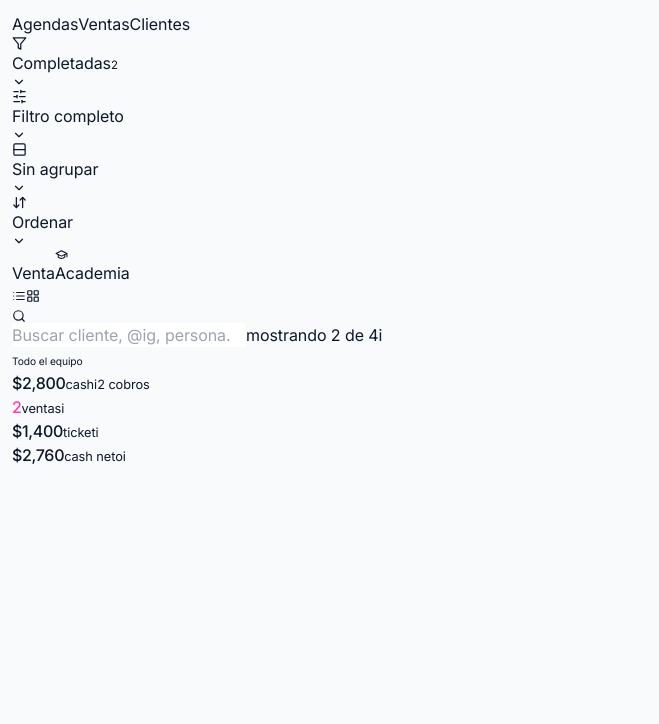
Test: Revisar › Ventas · los números de quien opera son los de la dirección › los atajos de siempre tampoco cuentan las no completadas
Click the button "Completadas2" at [65, 62], box x1=12 y1=36 x2=118 y2=89
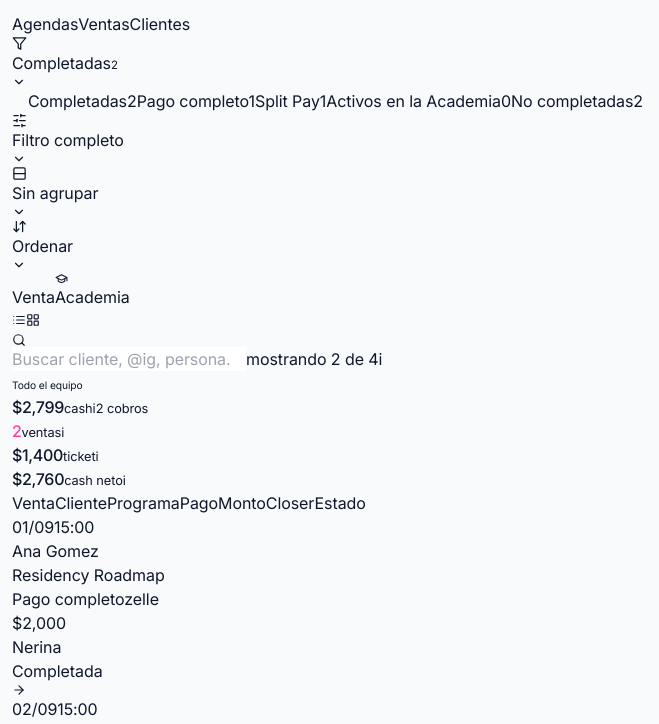
Now the menu item "Pago completo1" is shown, box x1=137 y1=89 x2=255 y2=113
